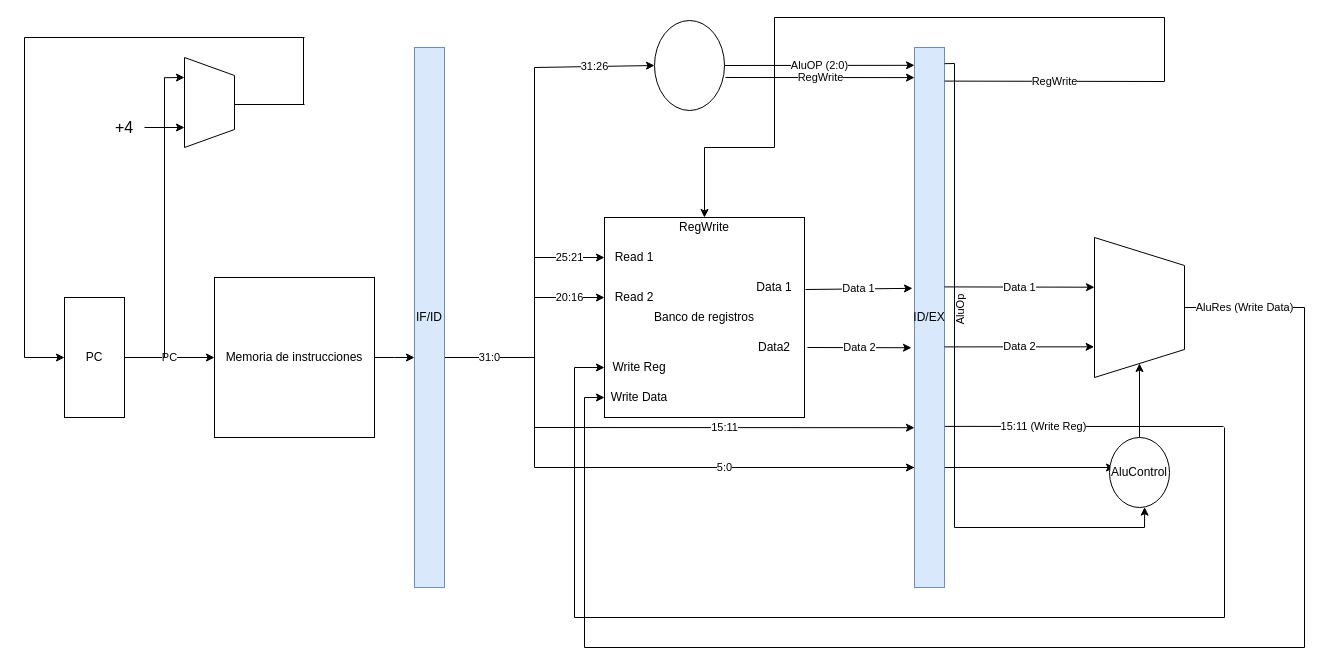
Some shapes in this 1323 by 666 pixel diagram are drawn without their labels. Here are the shapes that lost their labels. From the top down, the centre of each, then its label:
At [689,65]: "Unidad de control".
At [209,102]: "ADD PC".
At [1139,307]: "ALU".
